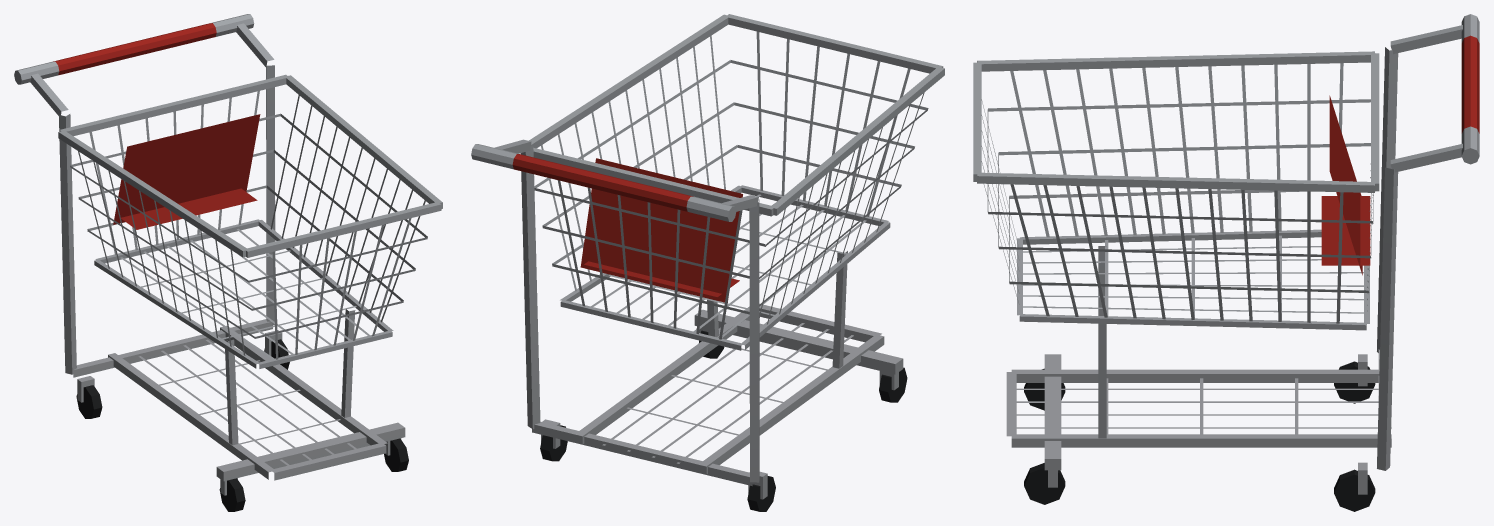
File: shop.cart.chrome_red.glb
The picture shows the model from 3 angles, left to right: view 1: azimuth 30°, elevation 25°; view 2: azimuth 150°, elevation 25°; view 3: azimuth 270°, elevation 25°; orthographic projection. The views are drawn at different scales.
Visible parts, largest first — view 1: shop_cart_chrome_red; view 2: shop_cart_chrome_red; view 3: shop_cart_chrome_red.
Part boxes in pixels (bbox=[...]): shop_cart_chrome_red: bbox=[14, 14, 442, 511]; shop_cart_chrome_red: bbox=[471, 14, 944, 511]; shop_cart_chrome_red: bbox=[973, 14, 1479, 511].
Size of what is drawn, in the model's own units: 0.768 by 1 by 1.23.
